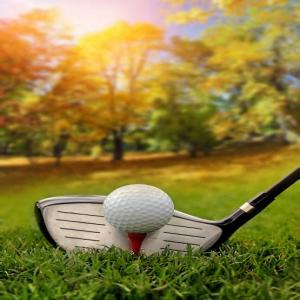Golf: (102, 184, 176, 232)
